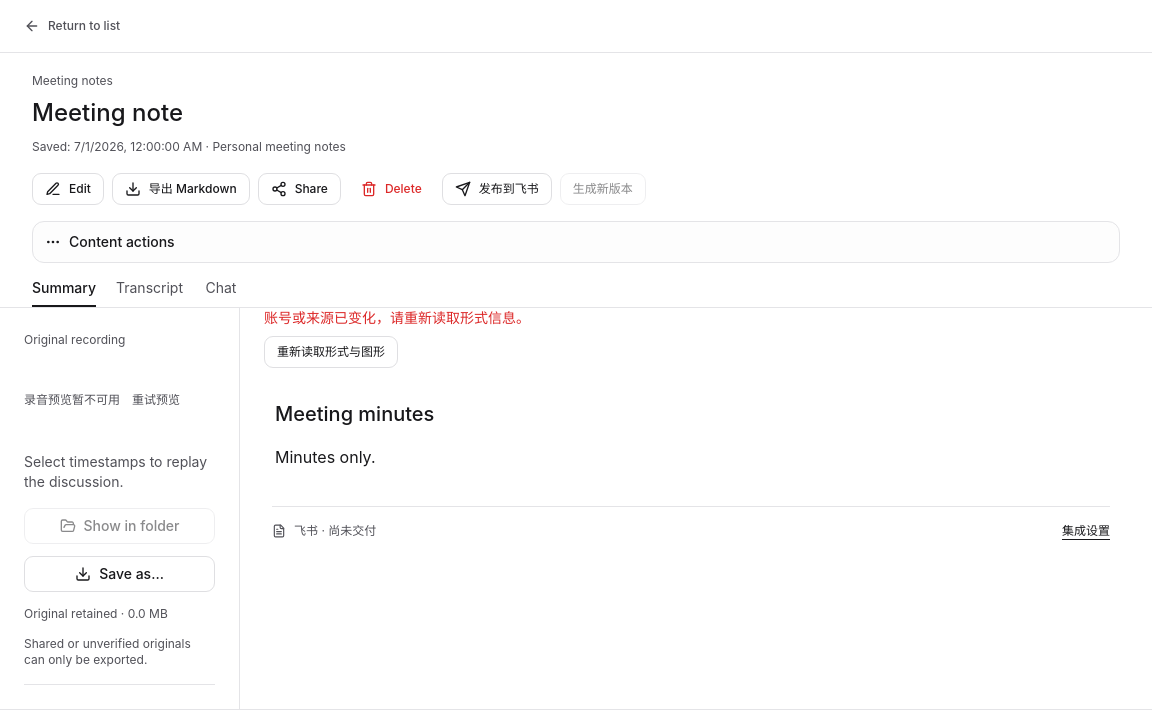
Test: NoteEditor transcript evidence › keeps a static title with visible edit/export/share/delete actions and Feishu publication
Expected: the text "Minutes only." is shown, [275,447,376,467]
Expected: the number of headings "Meeting note" is 1, [32,98,183,127]
What coordinates should you click on to do the following:
click the button "Content actions"
I would click on:
 (110, 242)
Its box is [45,233,175,250].
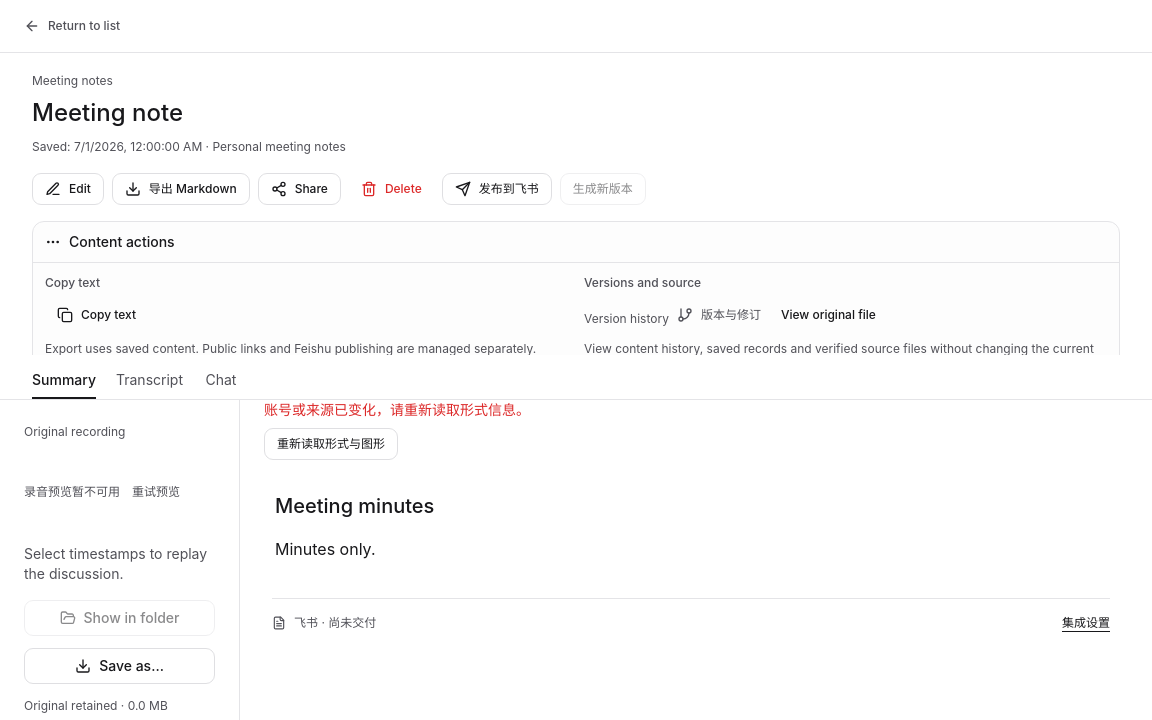
Expected: the button "导出 Markdown" is shown, [112,173,250,205]
Result: the button with aria-label "历史版本" is shown at [677,301,761,329]
